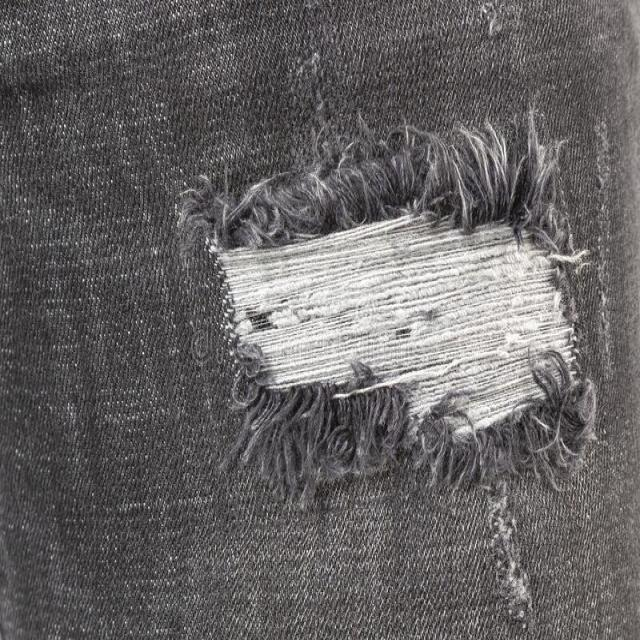Hole: (196, 129, 597, 504), (489, 482, 534, 624)
